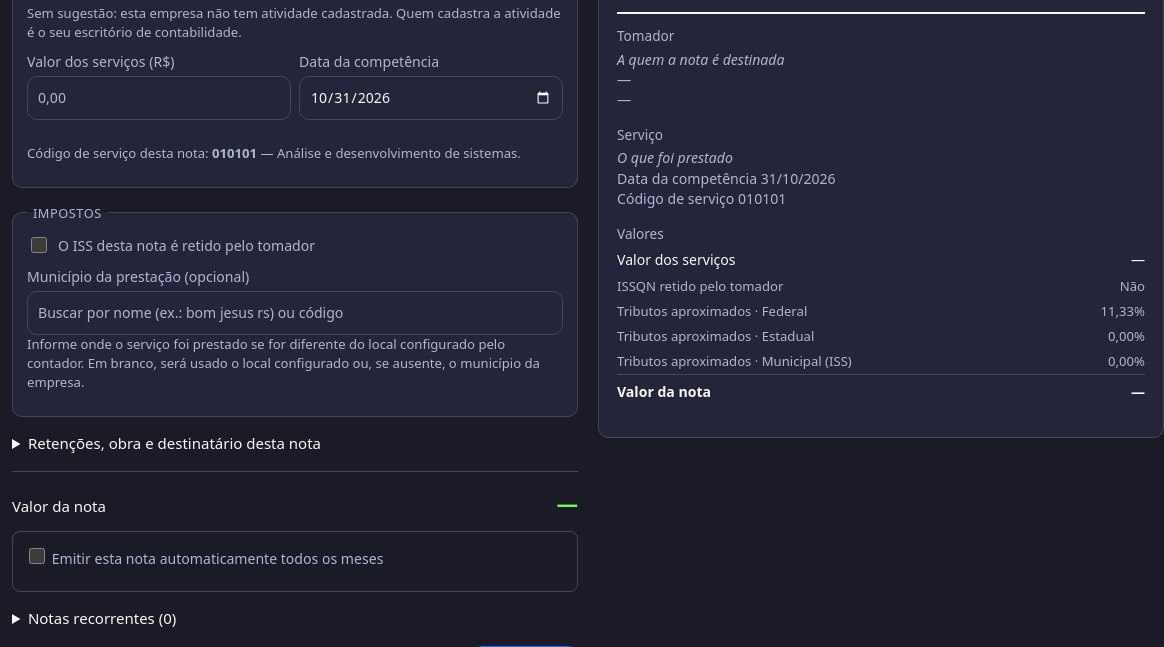
Test case: ⚠⚠ A ALÍQUOTA DE ISS SÓ APARECE COM A RETENÇÃO MARCADA › caixa desmarcada: sem campo; marcada: com campo
(page scrolled)
Click the checkbox with id "emitir-iss-retido" at {"x": 39, "y": 245}, box [31,237,47,253]
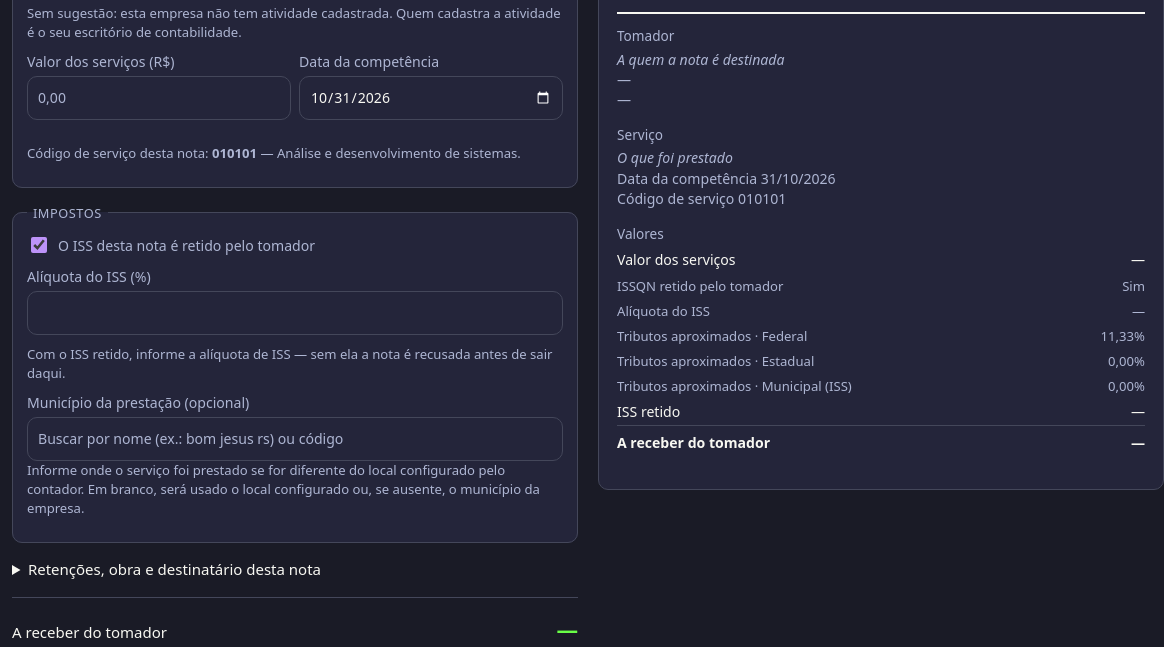
Now the number field with id "emitir-aliquota" is shown, box [27,291,563,335]
Click the checkbox with id "emitir-iss-retido" at {"x": 39, "y": 245}, box [31,237,47,253]
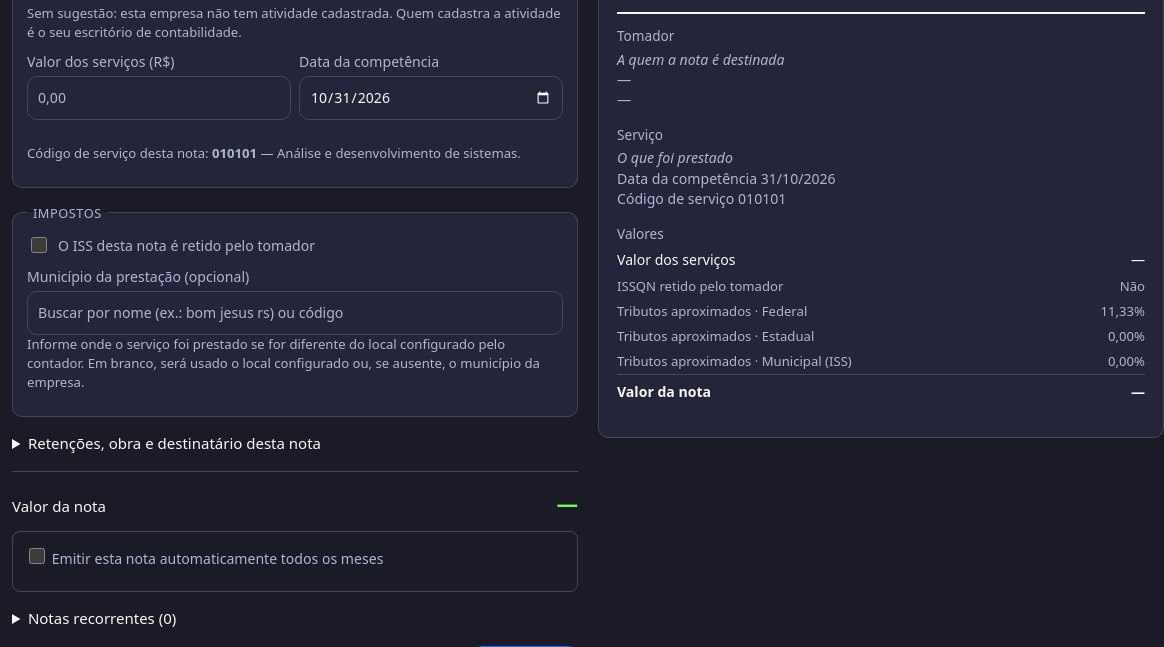
Now the number field with id "emitir-aliquota" is gone
